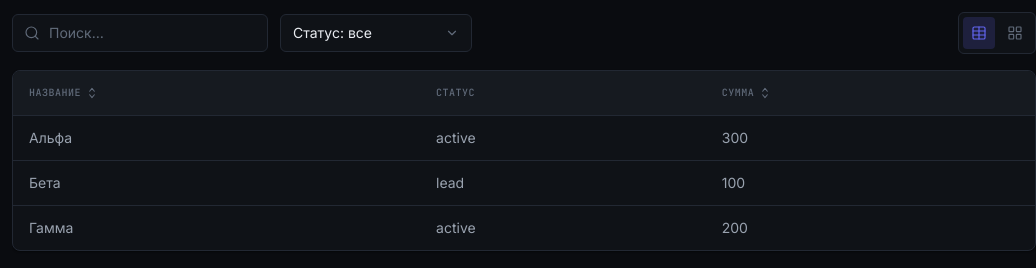
it: DataTable component › фильтрует по колонке через выпадающий список
Click the dropdown named "Фильтр: Статус": (376, 33) [280,14,472,52]
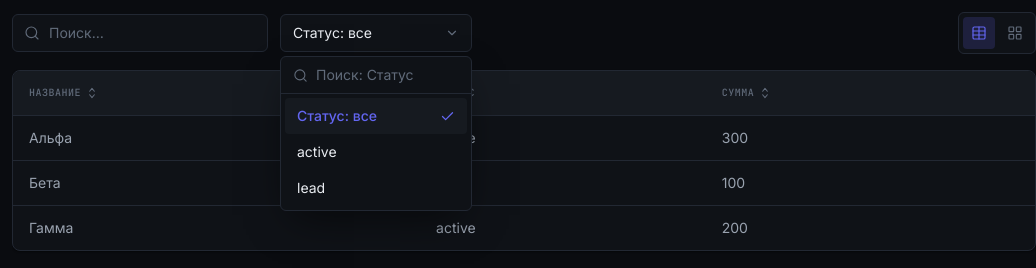
Click the option "lead": (311, 188) [297,179,325,196]
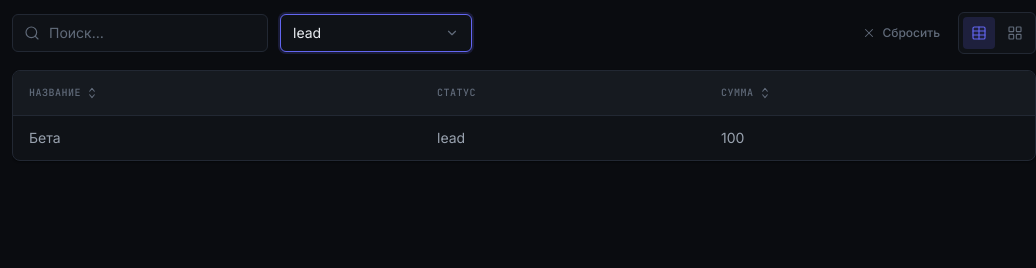
Check: the text "Бета" is shown, box [13,116,421,160]
Check: the text "Альфа" is gone
